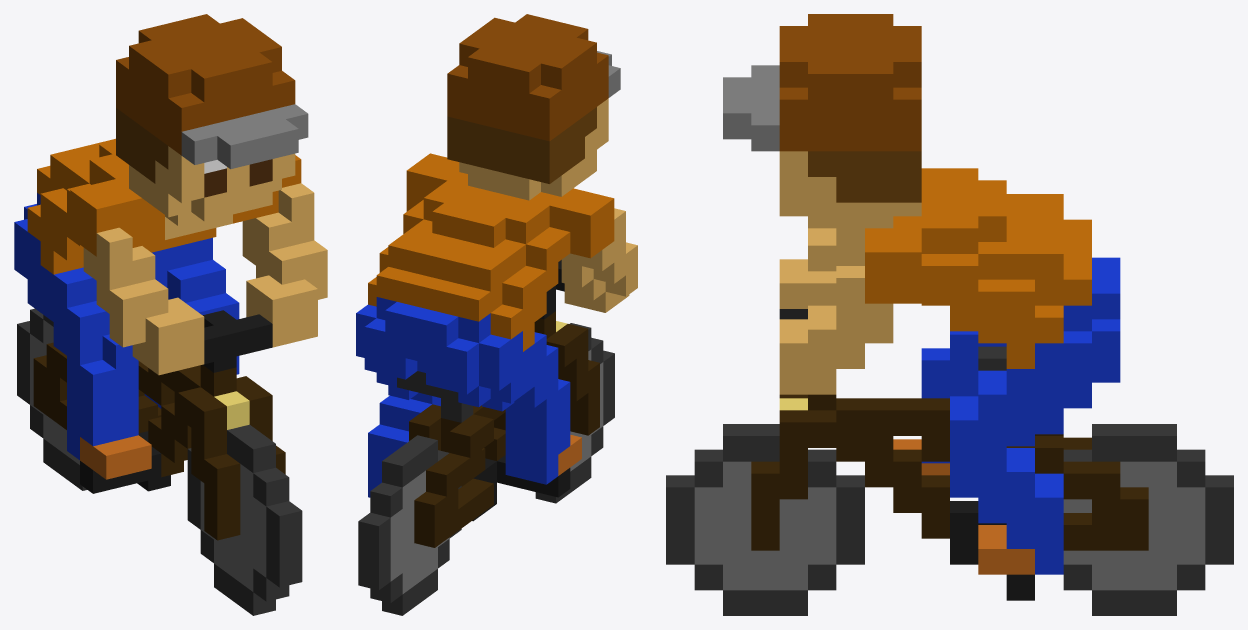
File: animation.obj
3 renders of one model, left to right at view 1: azimuth 30°, elevation 25°; view 2: azimuth 150°, elevation 25°; view 3: azimuth 270°, elevation 25°, orthographic. The views are drawn at different scales.
Size of the model in its own units: 9 by 22 by 20.
1 material, 1 textured.
